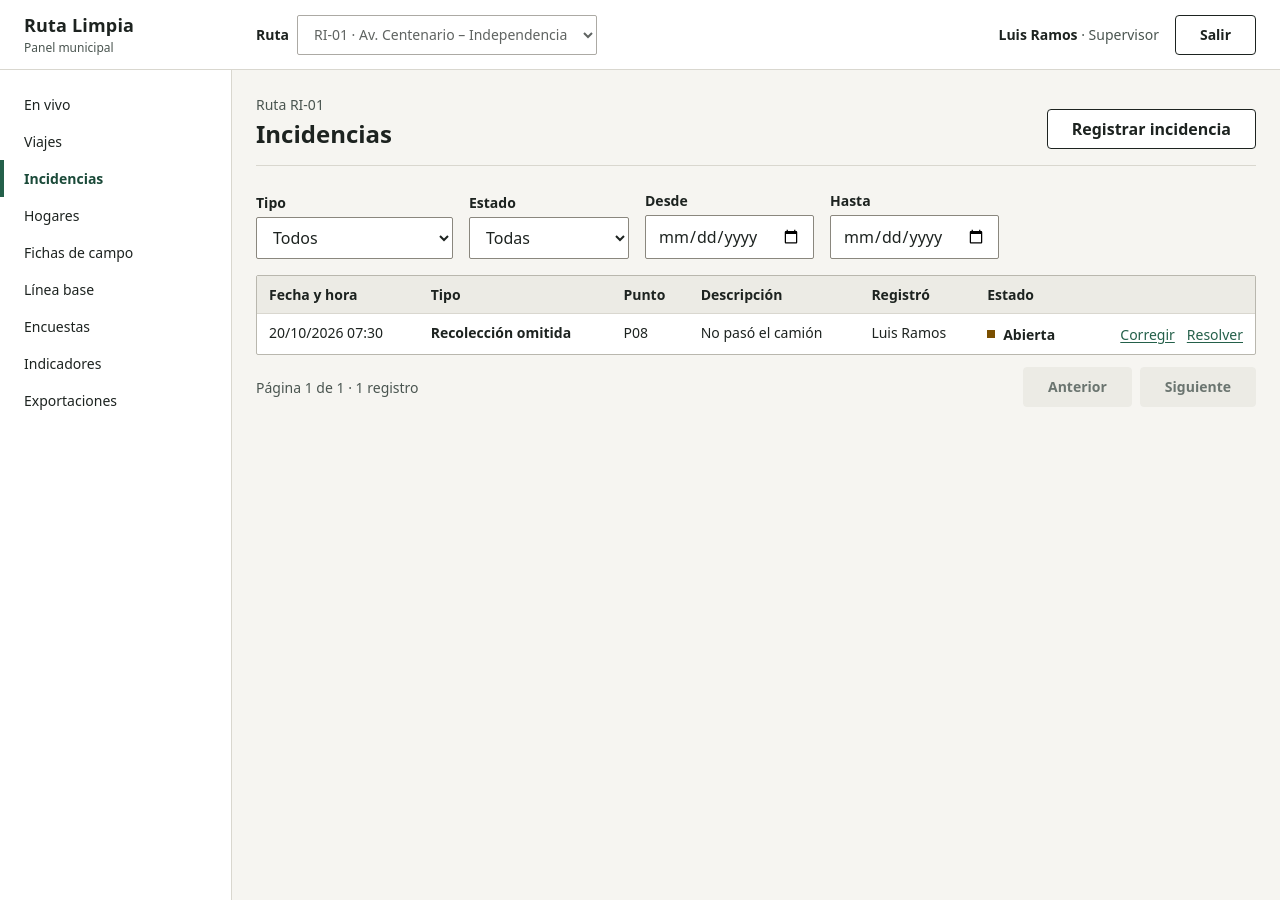
Test case: IncidentsPage › resolves an incident only with a note
The image size is (1280, 900).
Click the button named "Resolver Recolección omitida" at (1215, 334), box [1187, 322, 1243, 346]
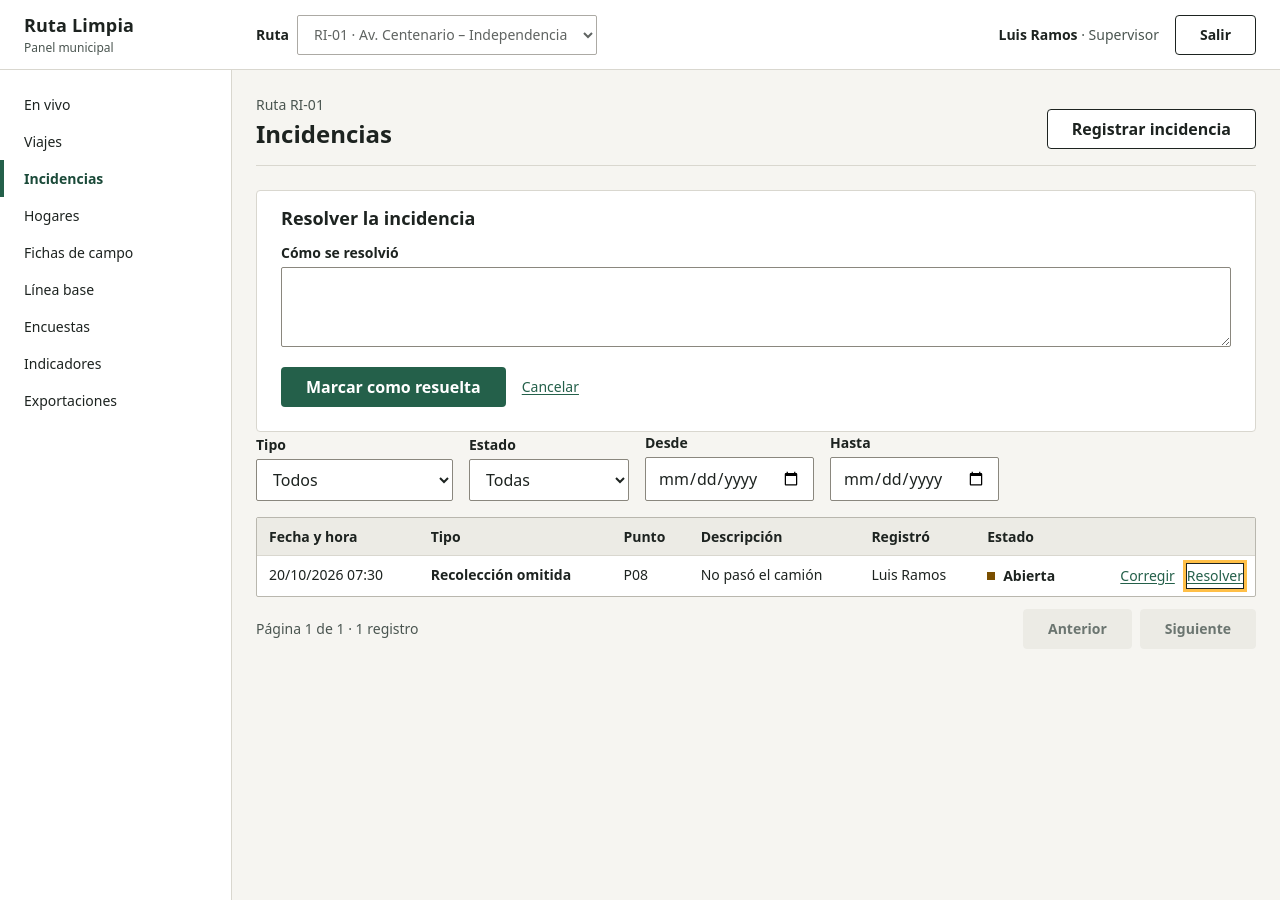
Click the button "Marcar como resuelta" at (393, 386), box [281, 366, 506, 406]
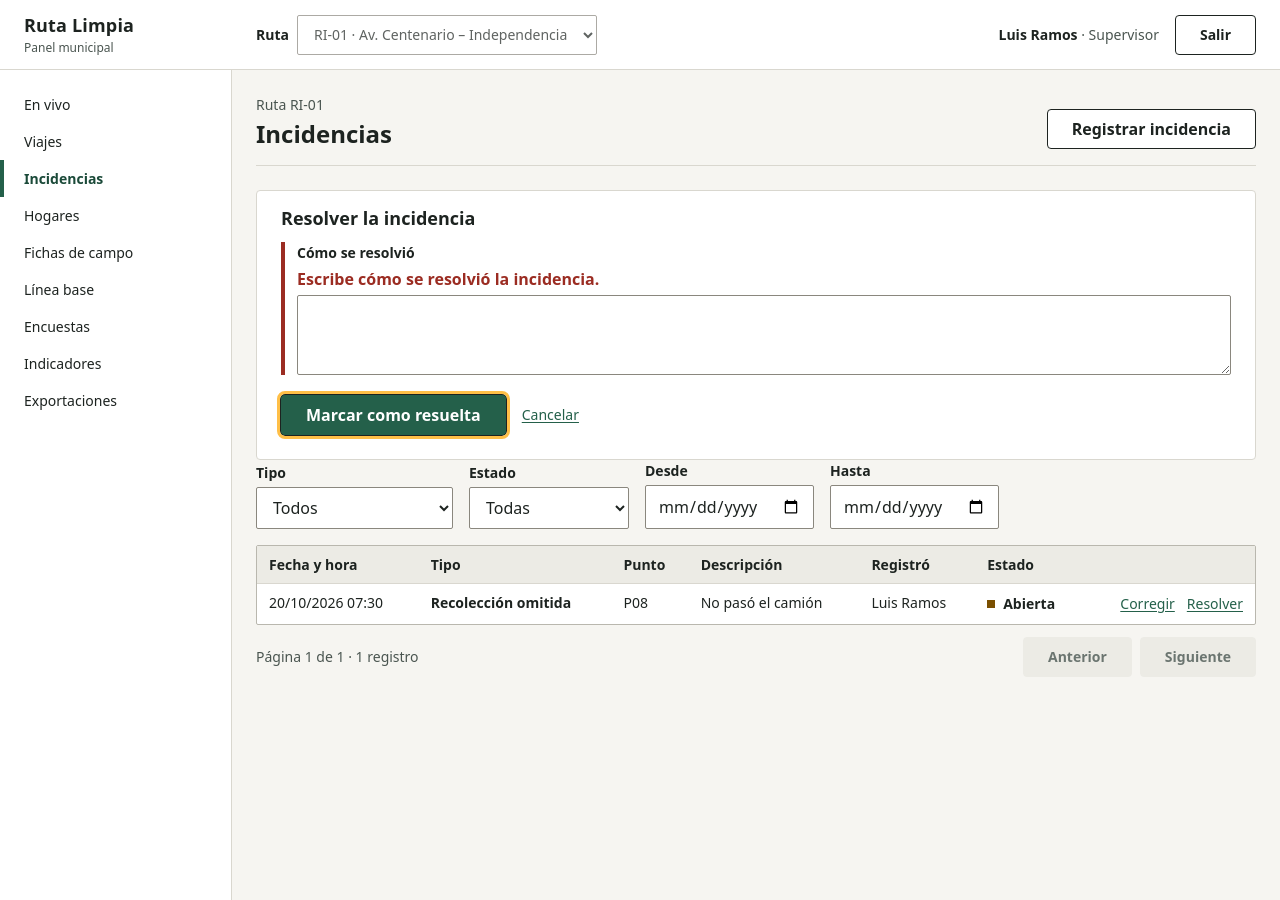
Expected: the text "Escribe cómo se resolvió la incidencia." is shown, [297, 268, 599, 290]
Type "Se recogió a las 9:00" into the text box labelled "Cómo se resolvió" at (764, 334), box [297, 294, 1231, 374]
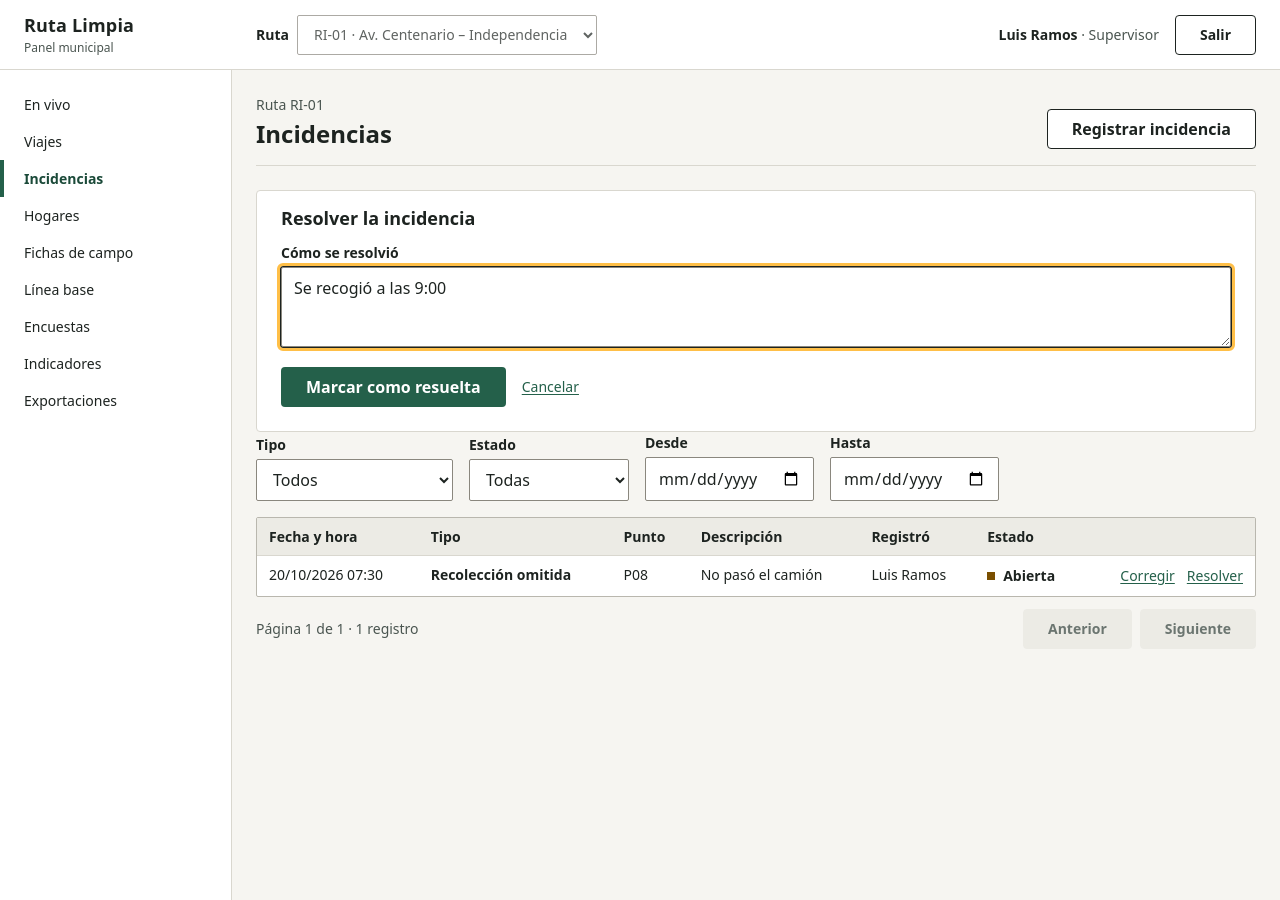
Click the button "Marcar como resuelta" at (393, 386), box [281, 366, 506, 406]
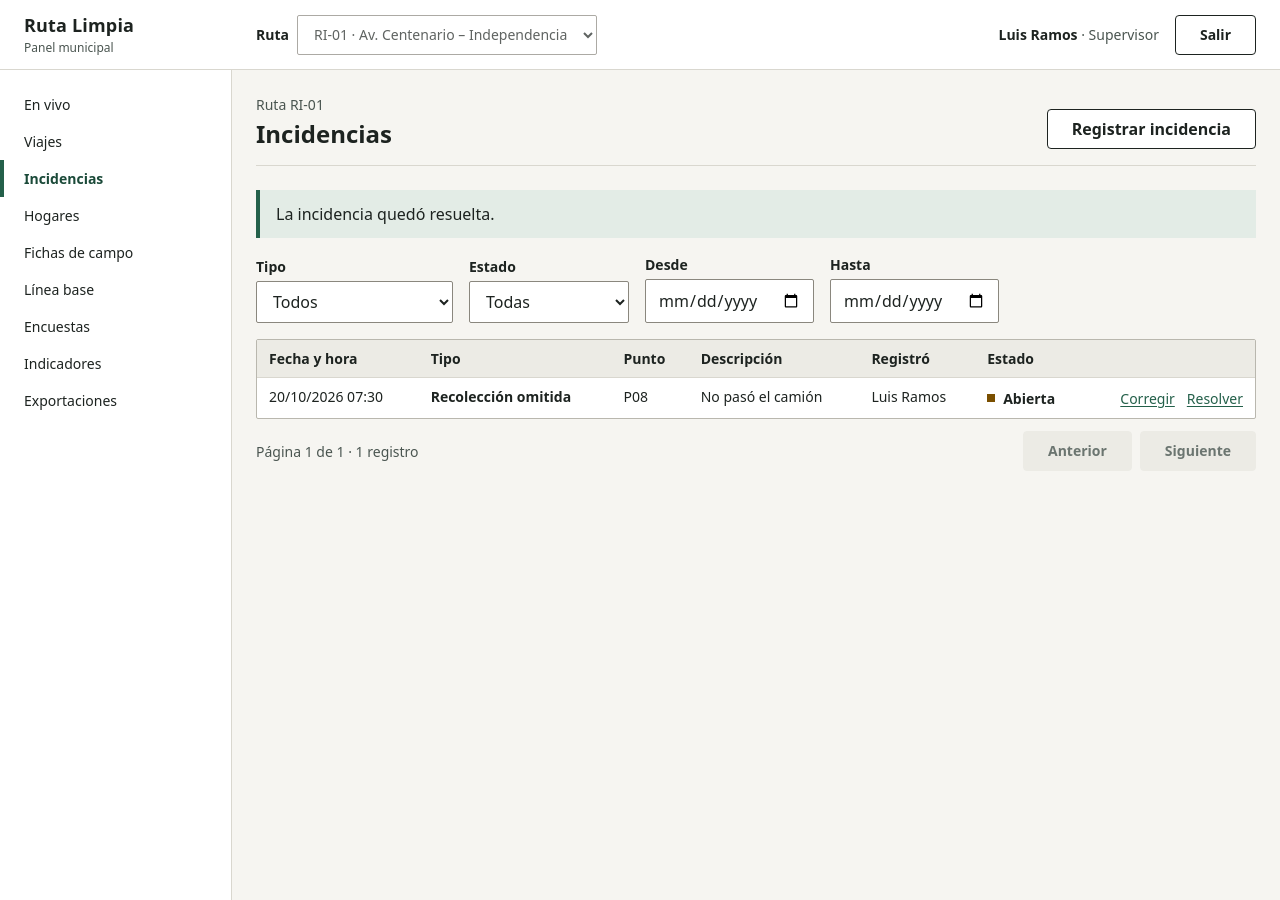
Expected: the text "La incidencia quedó resuelta." is shown, [276, 203, 494, 225]
